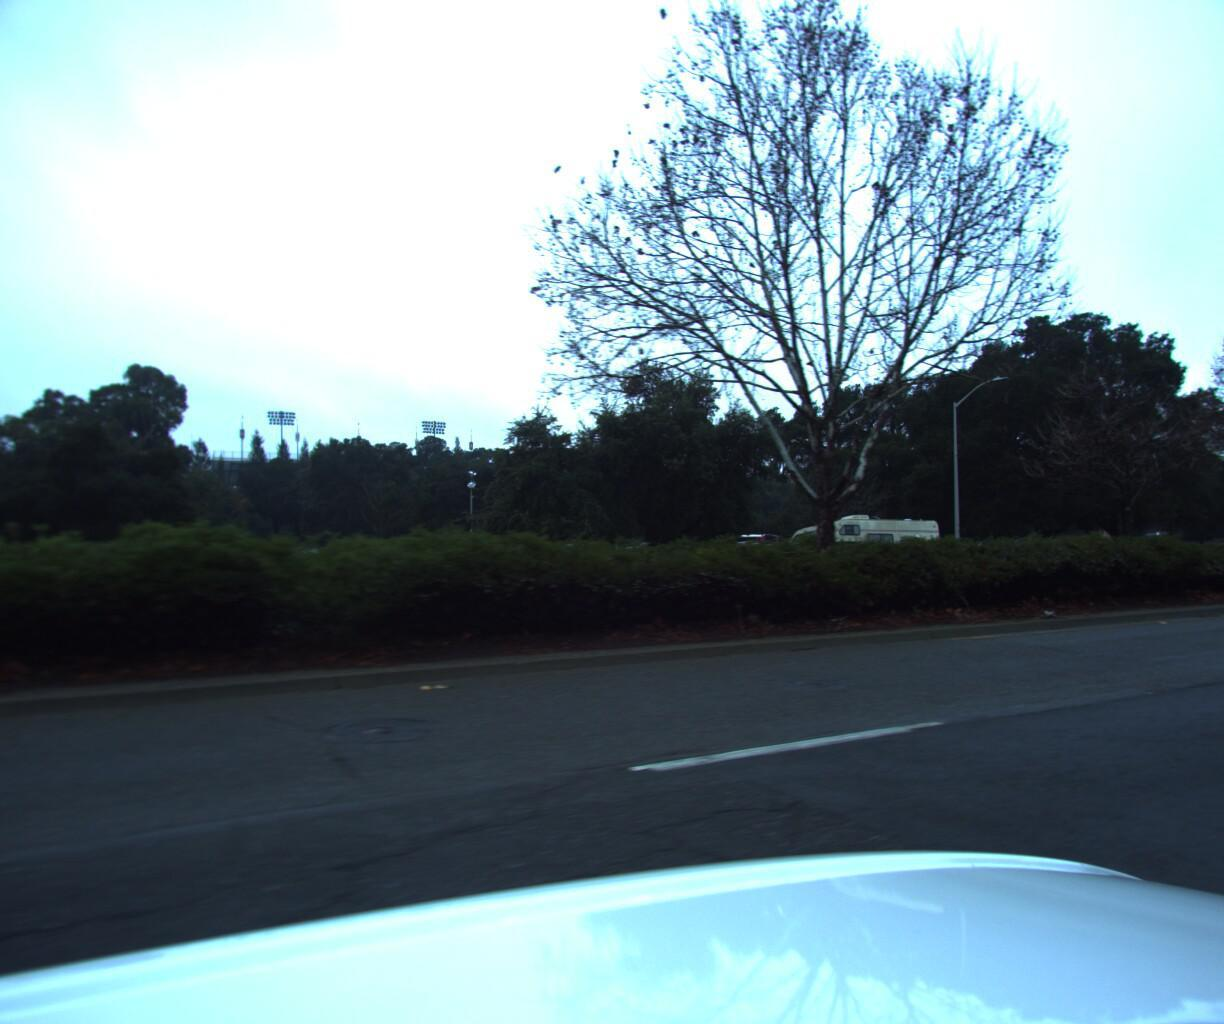other_vehicle: (775, 507, 940, 564)
